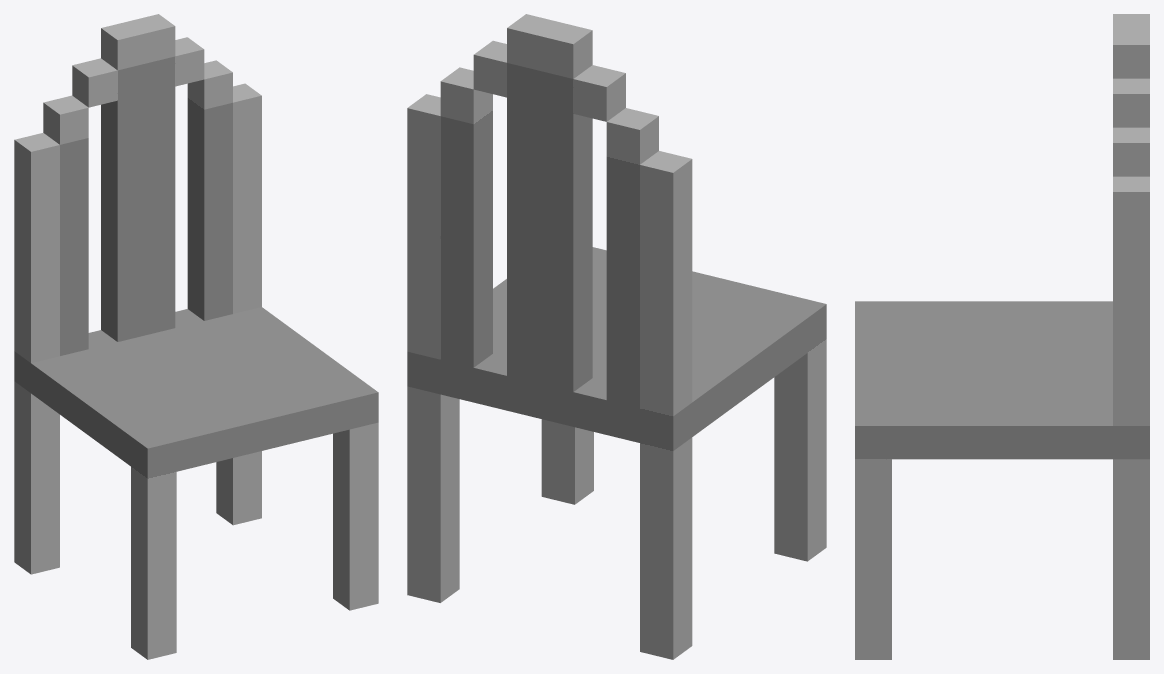
Rendered from Chair 2.glb.
3 views of the same model, side by side, from view 1: azimuth 30°, elevation 25°; view 2: azimuth 150°, elevation 25°; view 3: azimuth 270°, elevation 25° (orthographic). The views are drawn at different scales.
Visible parts, largest first — view 1: model; view 2: model; view 3: model.
Part boxes in pixels (<box>): model: <box>14,14,378,659</box>; model: <box>407,14,826,659</box>; model: <box>855,14,1149,659</box>.
Bounding box in the file's own units: 0.8 × 1.7 × 0.8.
1 material, 1 textured.
